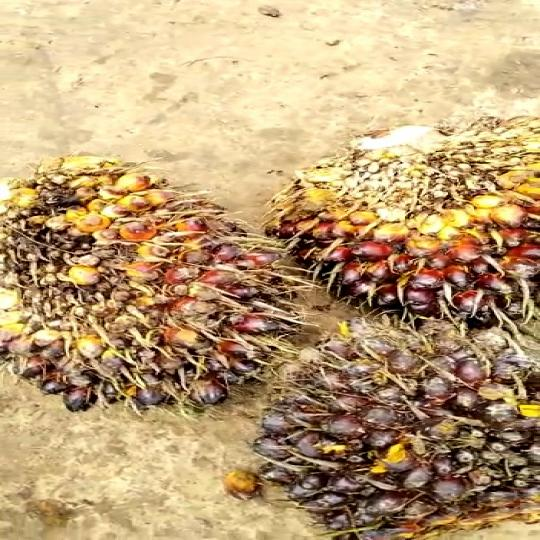kurang masak: (0, 159, 322, 411), (212, 327, 540, 540), (255, 106, 540, 325)
